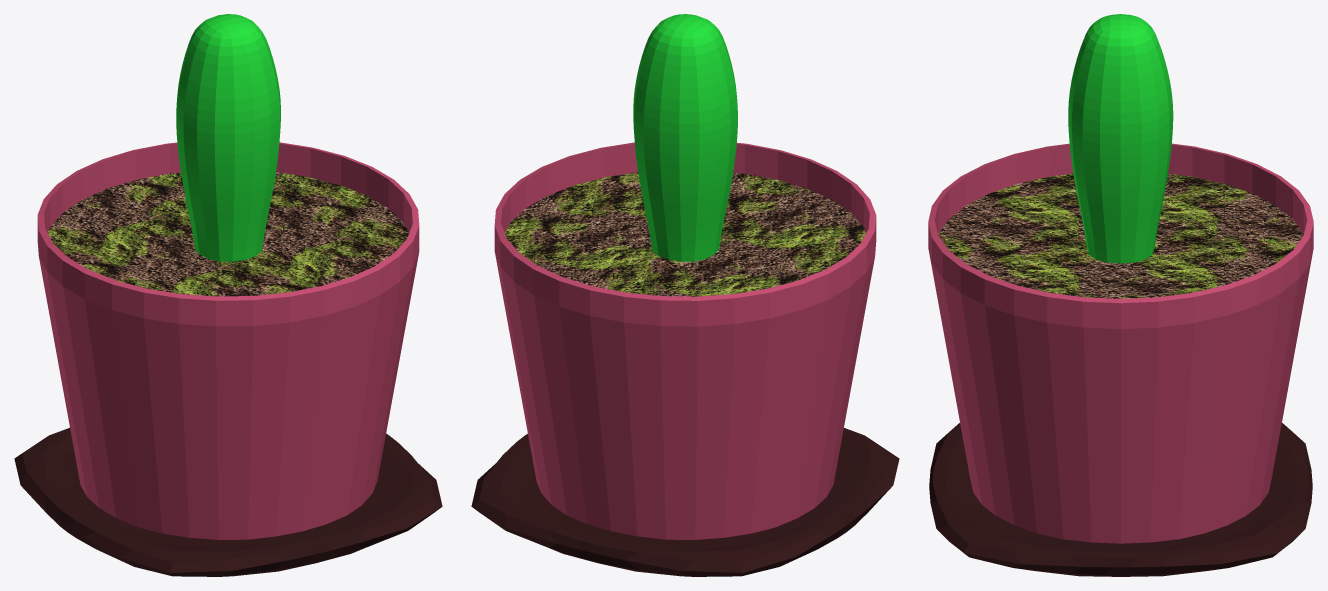
File: cactus.fbx
The picture shows the model from 3 angles, left to right: view 1: azimuth 30°, elevation 25°; view 2: azimuth 150°, elevation 25°; view 3: azimuth 270°, elevation 25°; orthographic projection.
Parts seen in each view (by area): view 1: Cylinder, Cube.001, Cube; view 2: Cylinder, Cube.001, Cube; view 3: Cylinder, Cube.001, Cube.
Boxes of the visible parts, <box> form: Cylinder: <box>37,142,419,539</box>; Cube.001: <box>176,14,280,261</box>; Cube: <box>14,427,442,576</box>; Cylinder: <box>494,142,876,539</box>; Cube.001: <box>633,14,737,261</box>; Cube: <box>471,428,899,576</box>; Cylinder: <box>928,143,1313,543</box>; Cube.001: <box>1068,14,1173,263</box>; Cube: <box>929,423,1312,576</box>.
Bounding box in the file's own units: 200 × 280 × 200.
